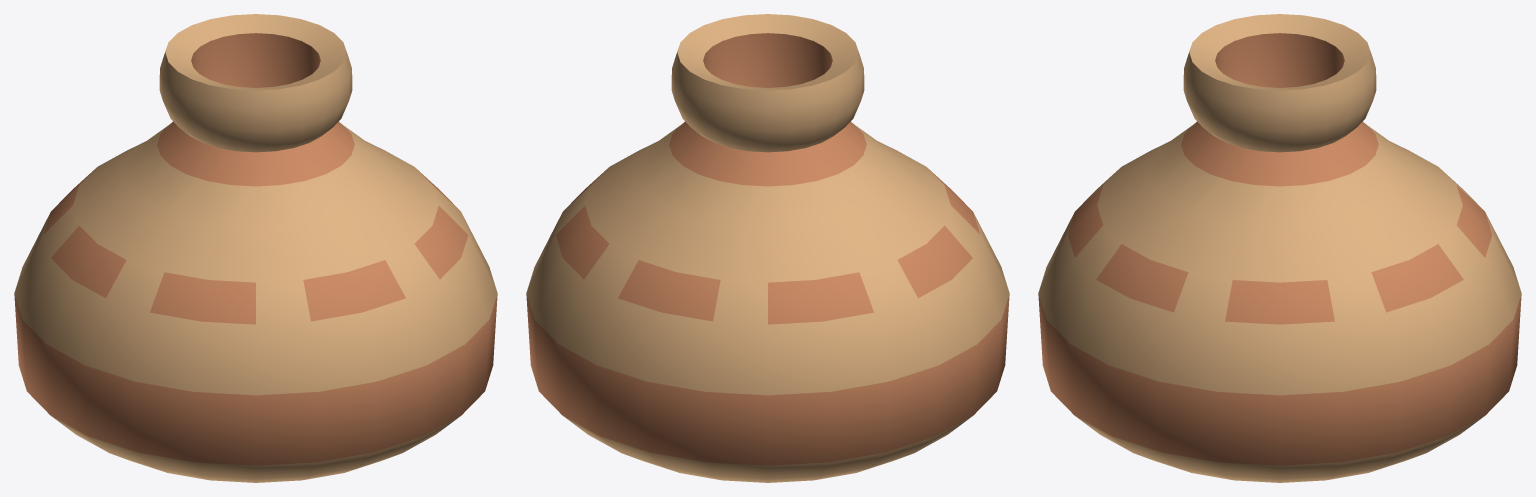
The model's file is potC_decorated.glb.
3 views of the same model, side by side, from view 1: azimuth 30°, elevation 25°; view 2: azimuth 150°, elevation 25°; view 3: azimuth 270°, elevation 25° (orthographic).
Visible parts, largest first — view 1: potC_decorated; view 2: potC_decorated; view 3: potC_decorated.
Boxes of the visible parts, <box> form: potC_decorated: <box>14,14,497,482</box>; potC_decorated: <box>526,14,1009,482</box>; potC_decorated: <box>1038,14,1521,482</box>.
Size of the model in its own units: 0.1962 by 0.1594 by 0.1962.
